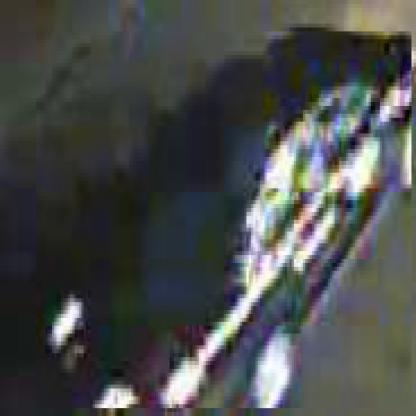car: (46, 32, 415, 413)
